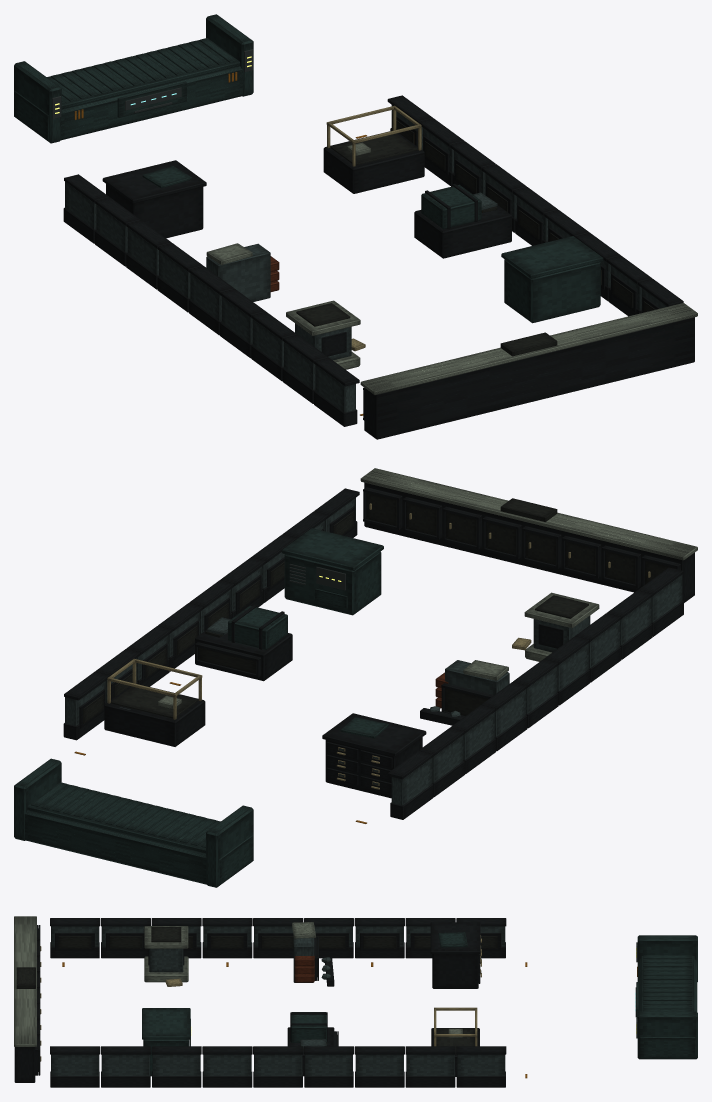
Rendered from ExcavationDepot_5x11.fbx.
3 renders of one model, top to bottom at view 1: azimuth 30°, elevation 25°; view 2: azimuth 150°, elevation 25°; view 3: azimuth 270°, elevation 25°, orthographic. The views are drawn at different scales.
Parts seen in each view (by area): view 1: THStage_ArchiveWainscot, THStage_BackArchiveCabinet, THStage_ExtractionLift, THStage_Bay_06_ServiceConsole, THStage_Bay_02_EmptyVitrine, THStage_Bay_01_ArchiveDrawers, THStage_Bay_04_StorageBench, THStage_Bay_05_DisplayPlinth, THStage_Bay_03_BrokenDado; view 2: THStage_ArchiveWainscot, THStage_BackArchiveCabinet, THStage_ExtractionLift, THStage_Bay_06_ServiceConsole, THStage_Bay_01_ArchiveDrawers, THStage_Bay_02_EmptyVitrine, THStage_Bay_04_StorageBench, THStage_Bay_03_BrokenDado, THStage_Bay_05_DisplayPlinth; view 3: THStage_ArchiveWainscot, THStage_ExtractionLift, THStage_BackArchiveCabinet, THStage_Bay_01_ArchiveDrawers, THStage_Bay_05_DisplayPlinth, THStage_Bay_06_ServiceConsole, THStage_Bay_03_BrokenDado, THStage_Bay_04_StorageBench, THStage_Bay_02_EmptyVitrine.
Part boxes in pixels (x1,y1,x2,y2): THStage_ArchiveWainscot: (63,95,683,426); THStage_BackArchiveCabinet: (360,303,697,439); THStage_ExtractionLift: (14,14,253,143); THStage_Bay_06_ServiceConsole: (501,236,603,323); THStage_Bay_02_EmptyVitrine: (323,105,424,193); THStage_Bay_01_ArchiveDrawers: (102,160,206,238); THStage_Bay_04_StorageBench: (414,183,511,258); THStage_Bay_05_DisplayPlinth: (286,300,365,369); THStage_Bay_03_BrokenDado: (206,243,279,301); THStage_ArchiveWainscot: (63,488,683,819); THStage_BackArchiveCabinet: (360,468,697,602); THStage_ExtractionLift: (14,758,253,887); THStage_Bay_06_ServiceConsole: (282,528,383,615); THStage_Bay_01_ArchiveDrawers: (322,713,426,798); THStage_Bay_02_EmptyVitrine: (104,658,205,746); THStage_Bay_04_StorageBench: (195,604,292,681); THStage_Bay_03_BrokenDado: (420,660,509,725); THStage_Bay_05_DisplayPlinth: (512,592,599,661); THStage_ArchiveWainscot: (50,918,506,1087); THStage_ExtractionLift: (635,935,697,1059); THStage_BackArchiveCabinet: (14,916,41,1082); THStage_Bay_01_ArchiveDrawers: (430,922,481,988); THStage_Bay_05_DisplayPlinth: (144,926,188,986); THStage_Bay_06_ServiceConsole: (142,1008,191,1076); THStage_Bay_03_BrokenDado: (292,922,334,986); THStage_Bay_04_StorageBench: (287,1012,338,1076); THStage_Bay_02_EmptyVitrine: (431,1007,479,1076).
Size of the model in its own units: 4.96 by 0.78 by 10.64.
Materials: 4 (1 with a texture image).
